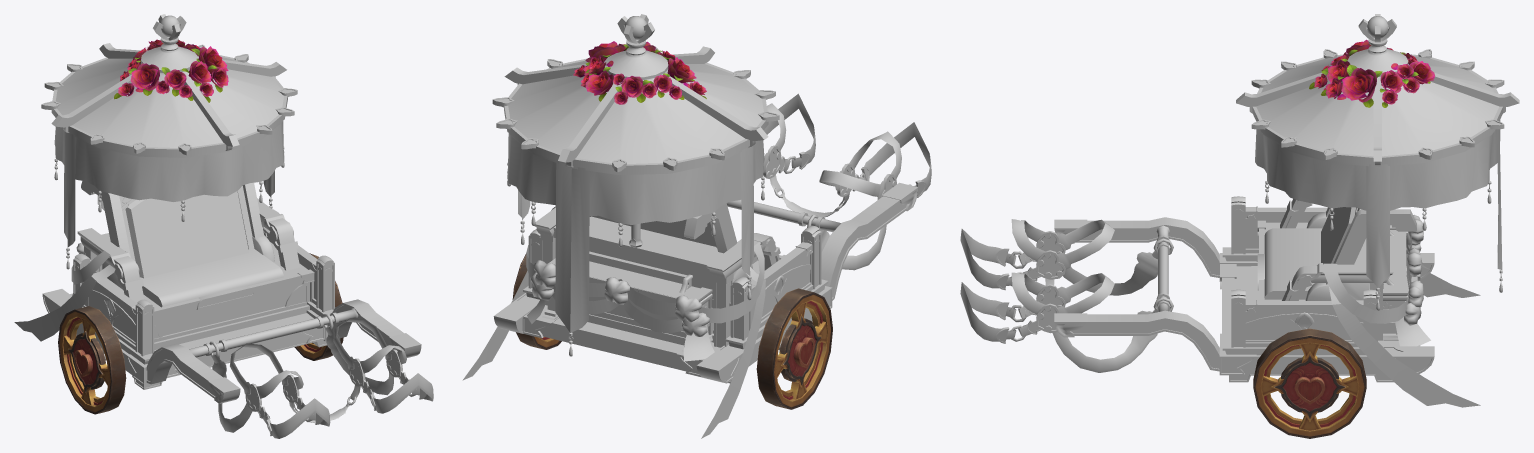
Rendered from test_hunche_01.FBX.
The picture shows the model from 3 angles, left to right: view 1: azimuth 30°, elevation 25°; view 2: azimuth 150°, elevation 25°; view 3: azimuth 270°, elevation 25°; orthographic projection. The views are drawn at different scales.
Visible parts, largest first — view 1: wedding_hunche_02_01, wedding_hunche_02_02; view 2: wedding_hunche_02_01, wedding_hunche_02_02; view 3: wedding_hunche_02_01, wedding_hunche_02_02.
Part boxes in pixels (box(x1,y1,x2,y2)): wedding_hunche_02_01: box(14, 14, 433, 438); wedding_hunche_02_02: box(58, 39, 343, 414); wedding_hunche_02_01: box(462, 14, 931, 438); wedding_hunche_02_02: box(512, 41, 832, 409); wedding_hunche_02_01: box(960, 14, 1519, 407); wedding_hunche_02_02: box(1253, 39, 1434, 438).
Size of the model in its own units: 408 by 555 by 777.
